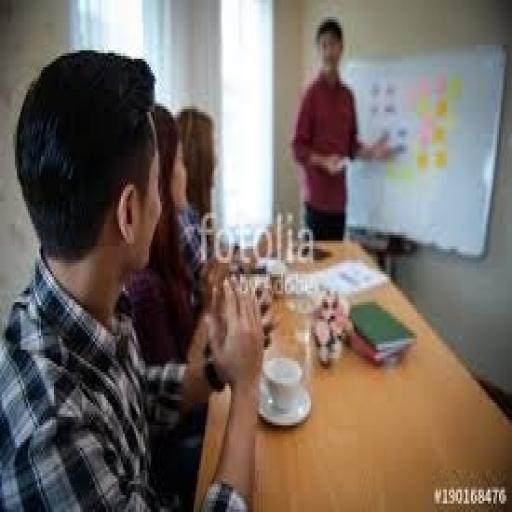clapping: (0, 48, 268, 509)
